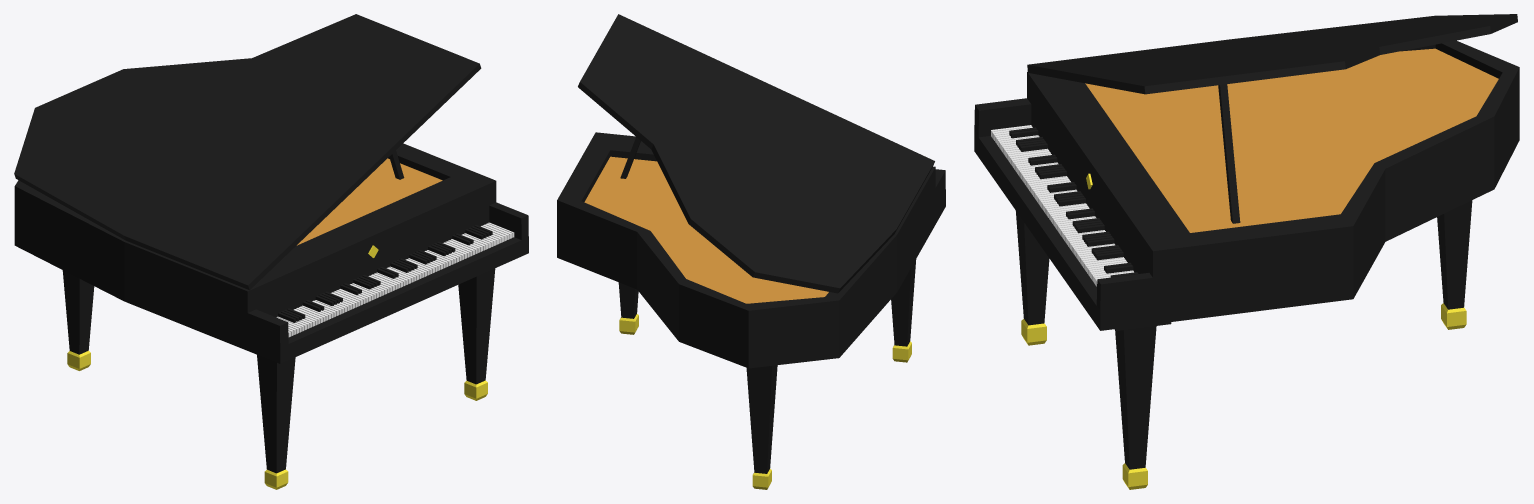
File: Piano.glb
3 views of the same model, side by side, from view 1: azimuth 30°, elevation 25°; view 2: azimuth 150°, elevation 25°; view 3: azimuth 270°, elevation 25° (orthographic). The views are drawn at different scales.
Visible parts, largest first — view 1: piano_Cube.029; view 2: piano_Cube.029; view 3: piano_Cube.029.
Part boxes in pixels (x1,y1,x2,y2): piano_Cube.029: (14, 14, 528, 489); piano_Cube.029: (557, 14, 945, 489); piano_Cube.029: (974, 14, 1519, 489).
Bounding box in the file's own units: 2.57 × 2.13 × 2.61.
